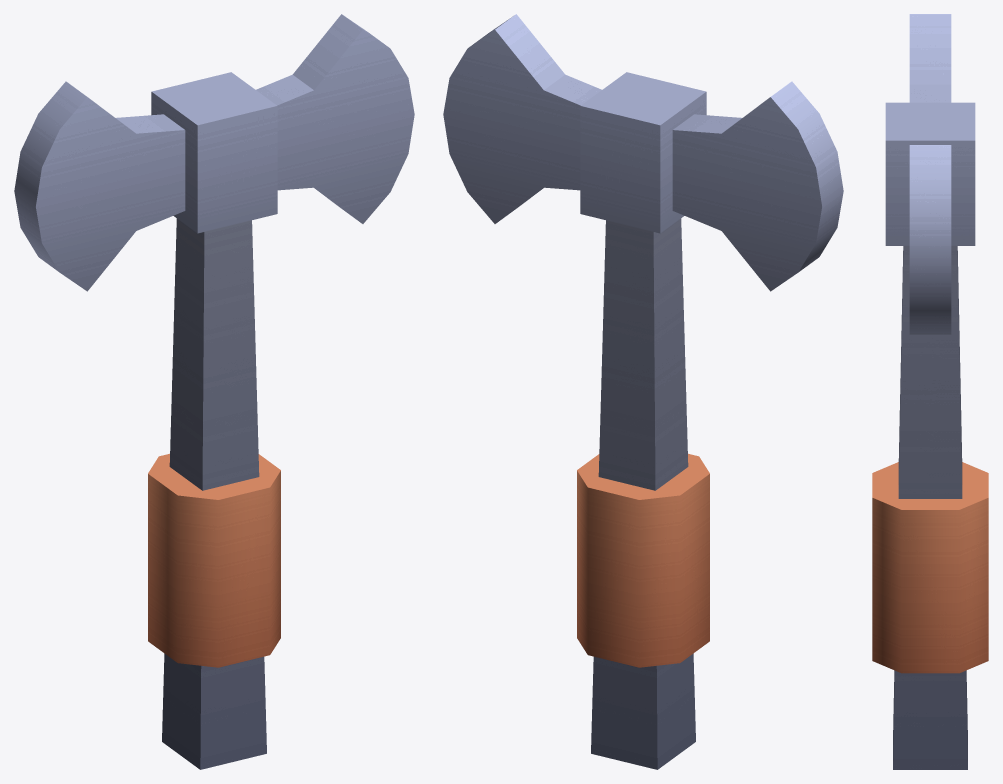
The model's file is tool-axe-upgraded.glb.
3 renders of one model, left to right at view 1: azimuth 30°, elevation 25°; view 2: azimuth 150°, elevation 25°; view 3: azimuth 270°, elevation 25°, orthographic. The views are drawn at different scales.
Visible parts, largest first — view 1: tool-axe-upgraded; view 2: tool-axe-upgraded; view 3: tool-axe-upgraded.
Boxes of the visible parts, bbox=[...] form: tool-axe-upgraded: bbox=[14, 14, 414, 769]; tool-axe-upgraded: bbox=[443, 14, 843, 769]; tool-axe-upgraded: bbox=[872, 14, 988, 769].
Bounding box in the file's own units: 0.1466 × 0.256 × 0.04.
Materials: 1 (1 with a texture image).
